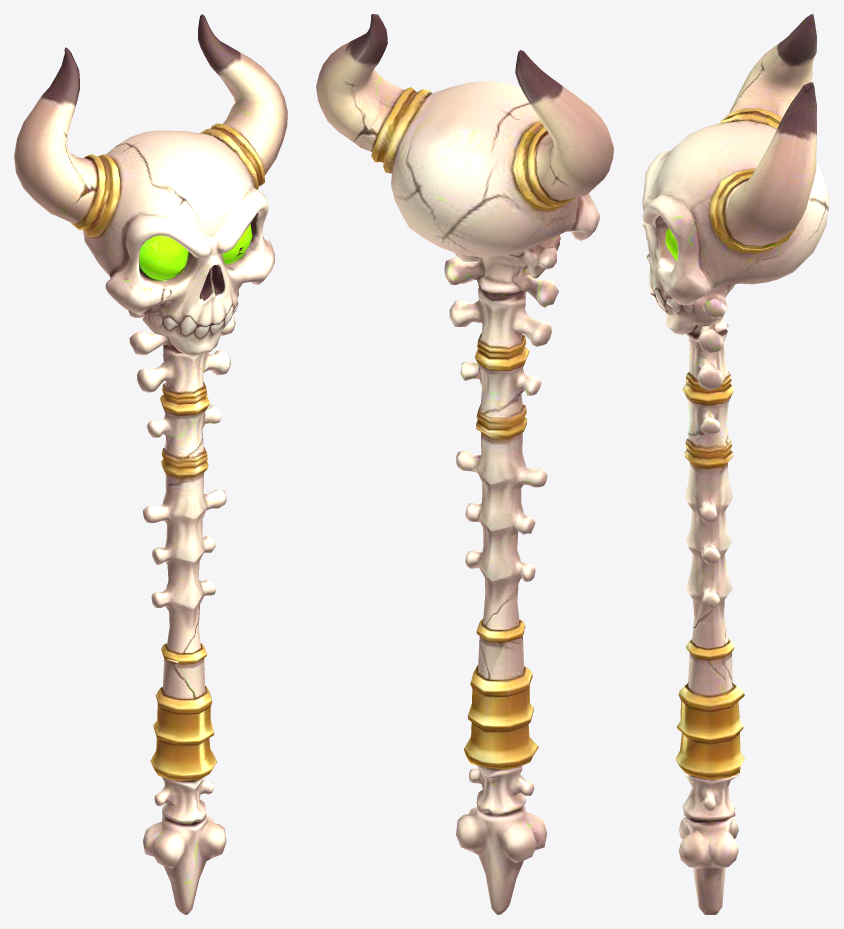
File: staff_skull.glb
The picture shows the model from 3 angles, left to right: view 1: azimuth 30°, elevation 25°; view 2: azimuth 150°, elevation 25°; view 3: azimuth 270°, elevation 25°; orthographic projection. The views are drawn at different scales.
Parts seen in each view (by area): view 1: staff_skull; view 2: staff_skull; view 3: staff_skull.
Part boxes in pixels (x1,y1,x2,y2): staff_skull: (14,14,287,914); staff_skull: (316,14,613,914); staff_skull: (642,14,829,914).
Bounding box in the file's own units: 0.3268 × 1 × 0.196.
1 material, 1 textured.
